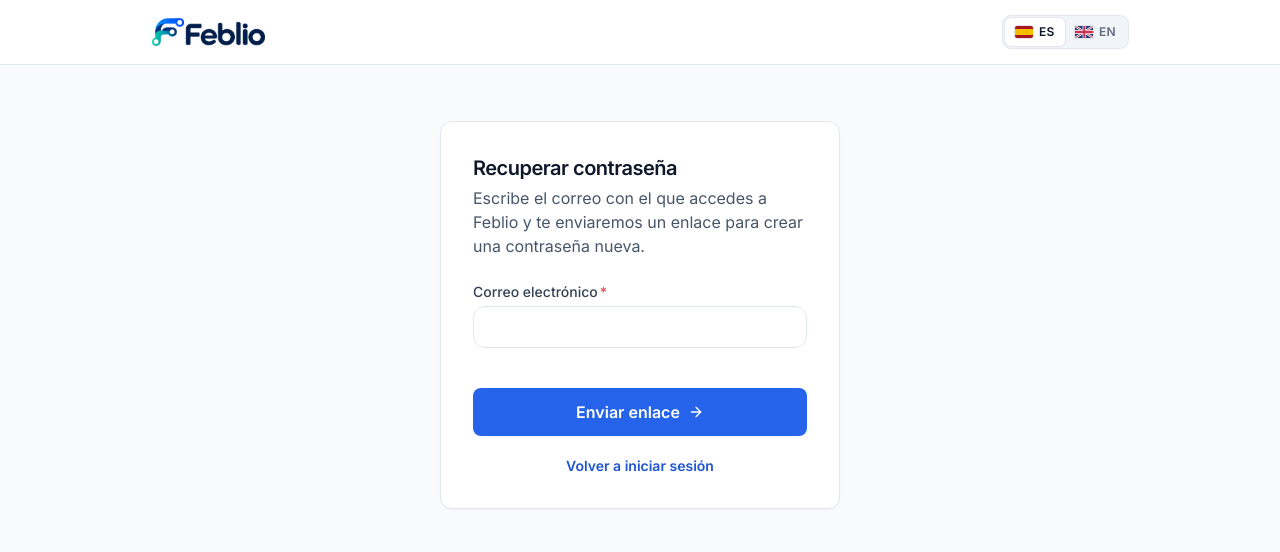
Test: <ForgotPasswordPage /> › un usuario inexistente recibe exactamente la misma respuesta neutra (sin enumeración)
This screenshot has width=1280, height=552.
Type "nadie@norte.es" into the field labelled "Correo electrónico*" at (640, 327), box [473,306,807,348]
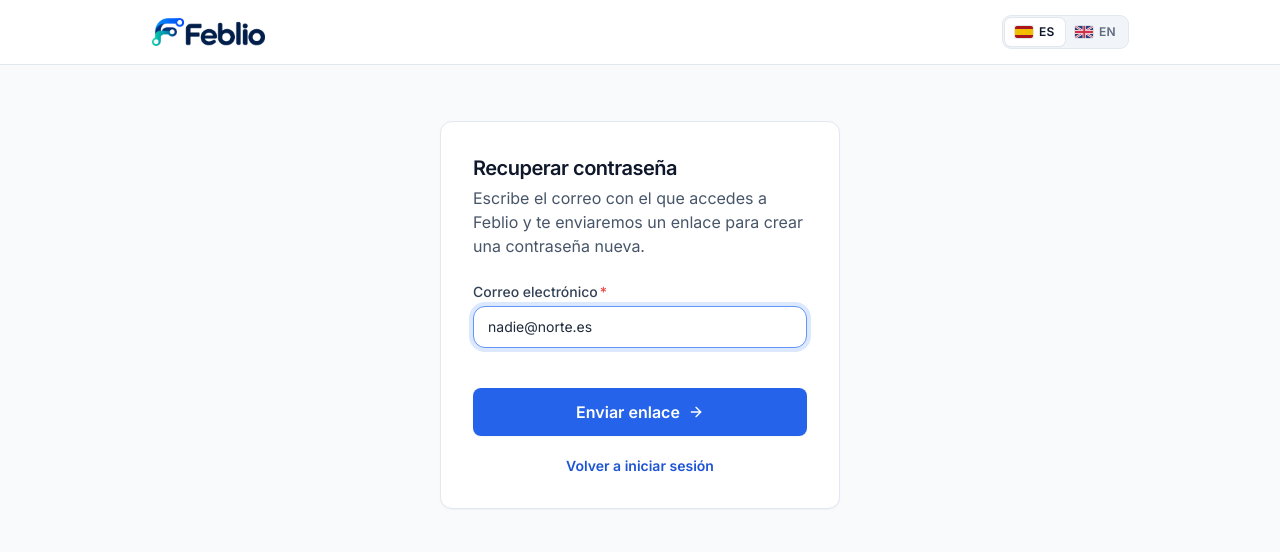
Click the button "Enviar enlace" at (640, 412), box [473,388,807,436]
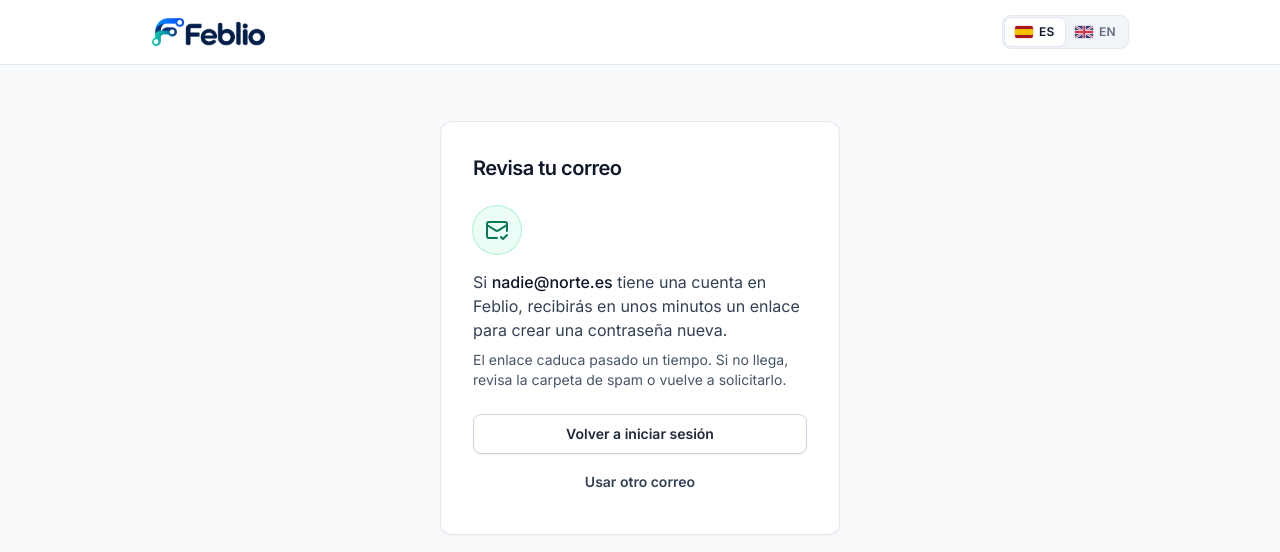
expect the message shows "Si nadie@norte.es tiene una cuenta": met, box [473,206,807,502]
